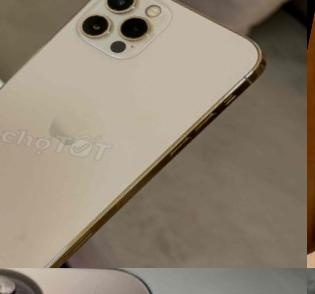scratch: (0, 268, 59, 294)
